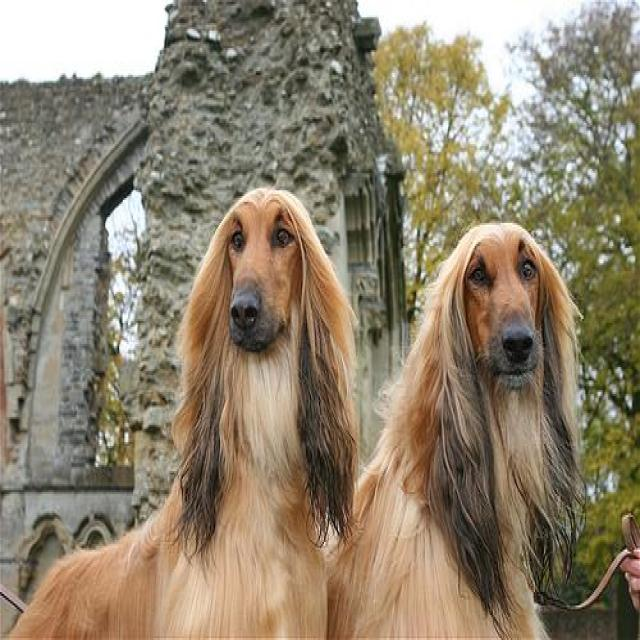afghan_hound: (0, 185, 365, 638), (314, 225, 584, 634)
